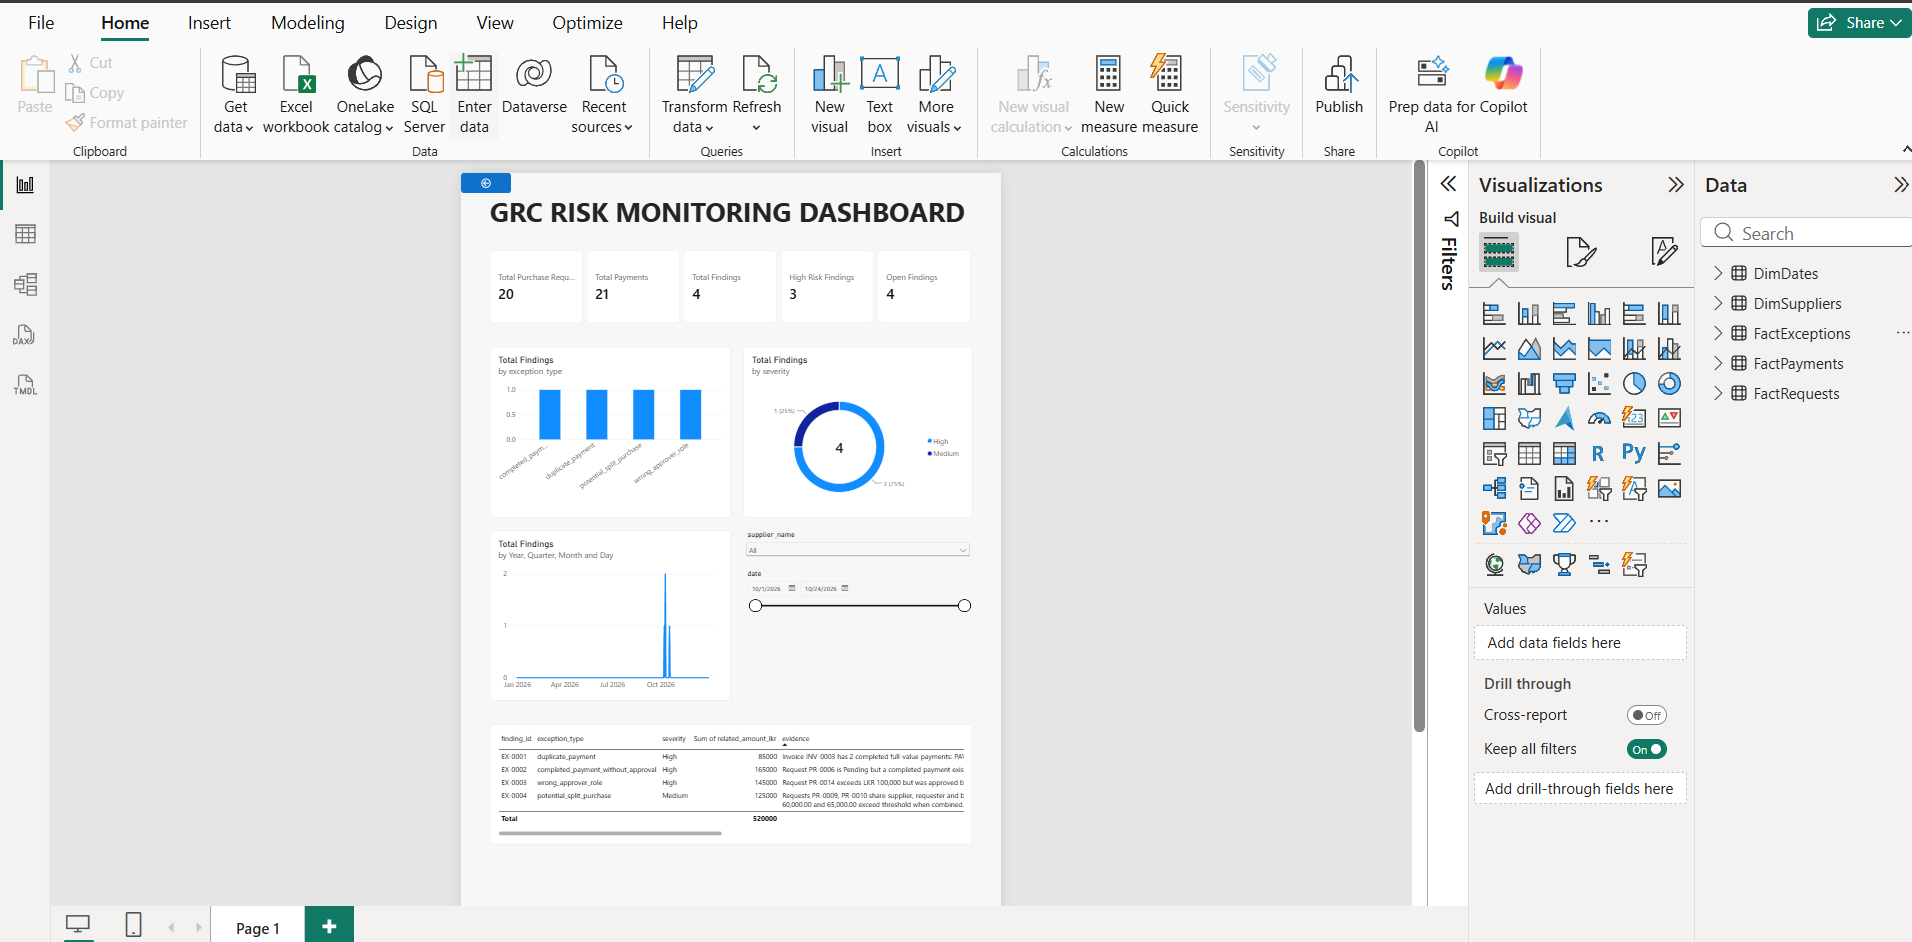

Layout of this report page (visuals, bound fields, positions):
{"tool":"powerbi","page":{"name":"Page 1","canvas":[1080,1920],"ordinal":0},"visuals":[{"type":"cardVisual","fields":{"Data":["DimDates.Total Purchase Requests","DimDates.Total Payments","DimDates.Total Findings","DimDates.High Risk Findings","DimDates.Open Findings"]},"box":[57.5,155,965,145],"z":0},{"type":"clusteredColumnChart","fields":{"Category":["FactExceptions.exception_type"],"Y":["DimDates.Total Findings"]},"box":[57.5,347.5,482.5,342.5],"z":1000},{"type":"donutChart","fields":{"Category":["FactExceptions.severity"],"Y":["DimDates.Total Findings"]},"box":[565,347.5,457.5,342.5],"z":2000},{"type":"lineChart","fields":{"Category":["DimDates.date.Variation.Date Hierarchy.Year","DimDates.date.Variation.Date Hierarchy.Quarter","DimDates.date.Variation.Date Hierarchy.Month","DimDates.date.Variation.Date Hierarchy.Day"],"Y":["DimDates.Total Findings"]},"box":[57.5,715,482.5,340],"z":3000},{"type":"tableEx","fields":{"Values":["FactExceptions.finding_id","FactExceptions.exception_type","FactExceptions.severity","Sum(FactExceptions.related_amount_lkr)","FactExceptions.evidence","FactExceptions.recommended_action","FactExceptions.event_date"]},"box":[57.5,1102.5,965,240],"z":4000},{"type":"actionButton","box":[0,0,100,40],"z":5000},{"type":"slicer","fields":{"Values":["DimSuppliers.supplier_name"]},"box":[565,715,457.5,72.5],"z":6000},{"type":"textbox","box":[57.5,40,965,77.5],"z":7000},{"type":"slicer","fields":{"Values":["DimDates.date"]},"box":[565,792.5,457.5,262.5],"z":8000}]}

Visuals, with their boxes on the page's 1080x1920 design canvas (x1, y1, x2, y2). These are canvas units, not pixel positions in the 1912x942 screenshot, which may show the page scaled, cropped or inside an application window:
cardVisual - DimDates.Total Purchase Requests x DimDates.Total Payments: x1=58, y1=155, x2=1022, y2=300
clusteredColumnChart - FactExceptions.exception_type x DimDates.Total Findings: x1=58, y1=348, x2=540, y2=690
donutChart - FactExceptions.severity x DimDates.Total Findings: x1=565, y1=348, x2=1022, y2=690
lineChart - DimDates.date.Variation.Date Hierarchy.Year x DimDates.date.Variation.Date Hierarchy.Quarter: x1=58, y1=715, x2=540, y2=1055
tableEx - FactExceptions.finding_id x FactExceptions.exception_type: x1=58, y1=1102, x2=1022, y2=1342
actionButton: x1=0, y1=0, x2=100, y2=40
slicer - DimSuppliers.supplier_name: x1=565, y1=715, x2=1022, y2=788
textbox: x1=58, y1=40, x2=1022, y2=118
slicer - DimDates.date: x1=565, y1=792, x2=1022, y2=1055
